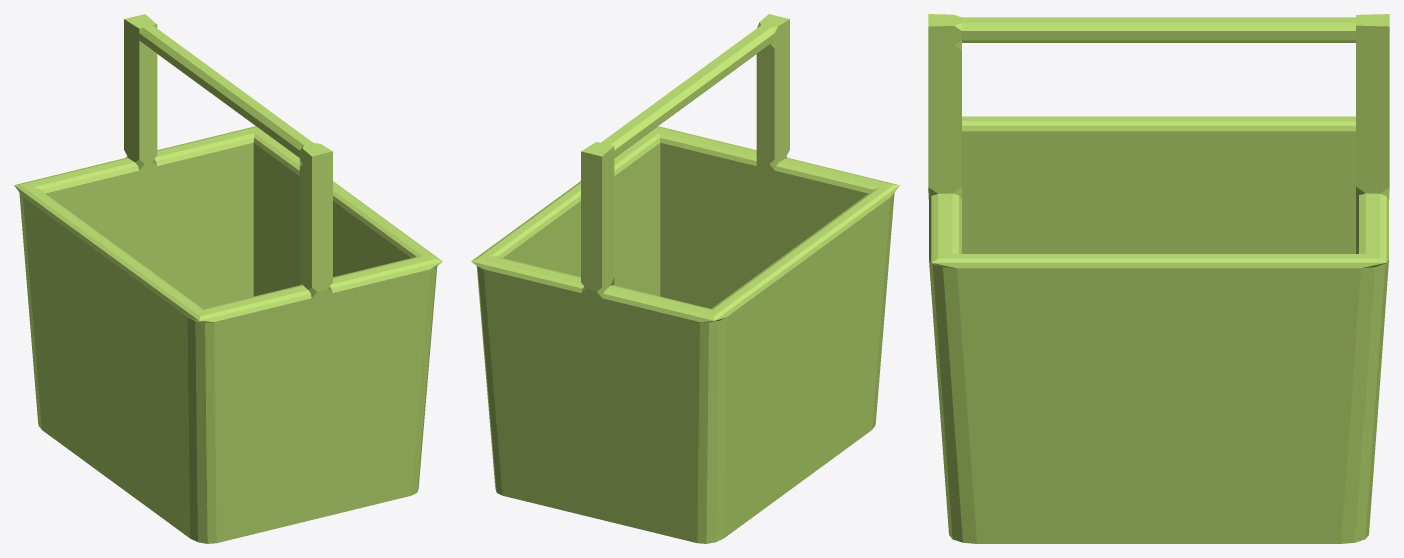
The model's file is 1sepet.fbx.
3 renders of one model, left to right at view 1: azimuth 30°, elevation 25°; view 2: azimuth 150°, elevation 25°; view 3: azimuth 270°, elevation 25°, orthographic. The views are drawn at different scales.
Parts seen in each view (by area): view 1: Cube; view 2: Cube; view 3: Cube.
Boxes of the visible parts, left/top/right/bottom form: Cube: left=14, top=14, right=442, bottom=543; Cube: left=471, top=14, right=899, bottom=543; Cube: left=928, top=14, right=1389, bottom=543.
Bounding box in the file's own units: 114 × 165 × 151.
